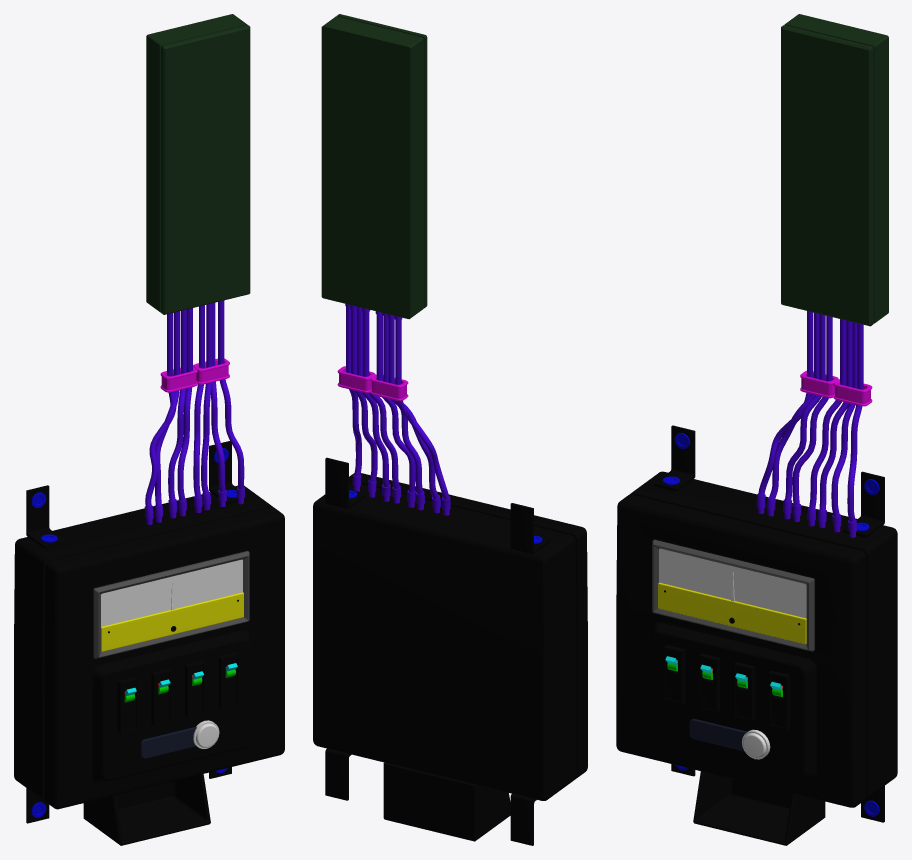
Rendered from FBX_Power_Panel.fbx.
The picture shows the model from 3 angles, left to right: view 1: azimuth 30°, elevation 25°; view 2: azimuth 150°, elevation 25°; view 3: azimuth 330°, elevation 25°; orthographic projection. The views are drawn at different scales.
Visible parts, largest first — view 1: panel_body, instrument_panel, Button; view 2: panel_body; view 3: panel_body, instrument_panel, Button.
Part boxes in pixels (bbox=[...]): panel_body: bbox=[14, 14, 284, 845]; instrument_panel: bbox=[101, 559, 242, 626]; Button: bbox=[193, 720, 219, 748]; panel_body: bbox=[313, 14, 587, 845]; panel_body: bbox=[616, 14, 897, 845]; instrument_panel: bbox=[659, 548, 806, 618]; Button: bbox=[742, 729, 770, 759].
Bounding box in the file's own units: 48.5 × 154 × 20.08.
